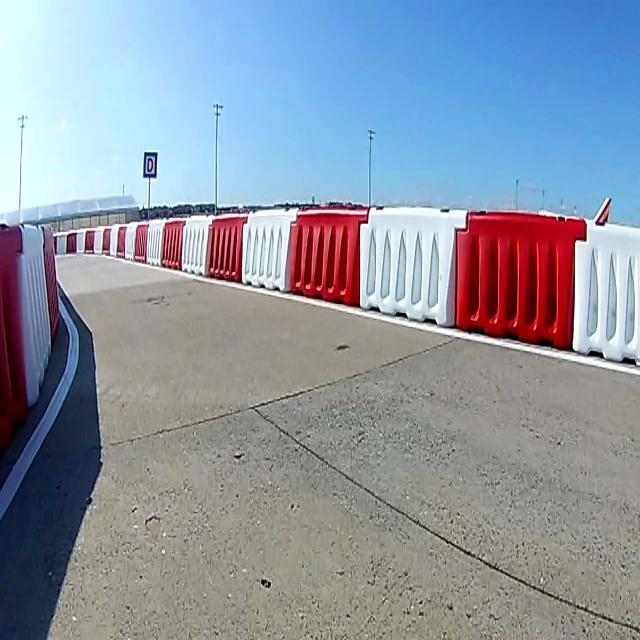durak: (143, 152, 157, 178)
